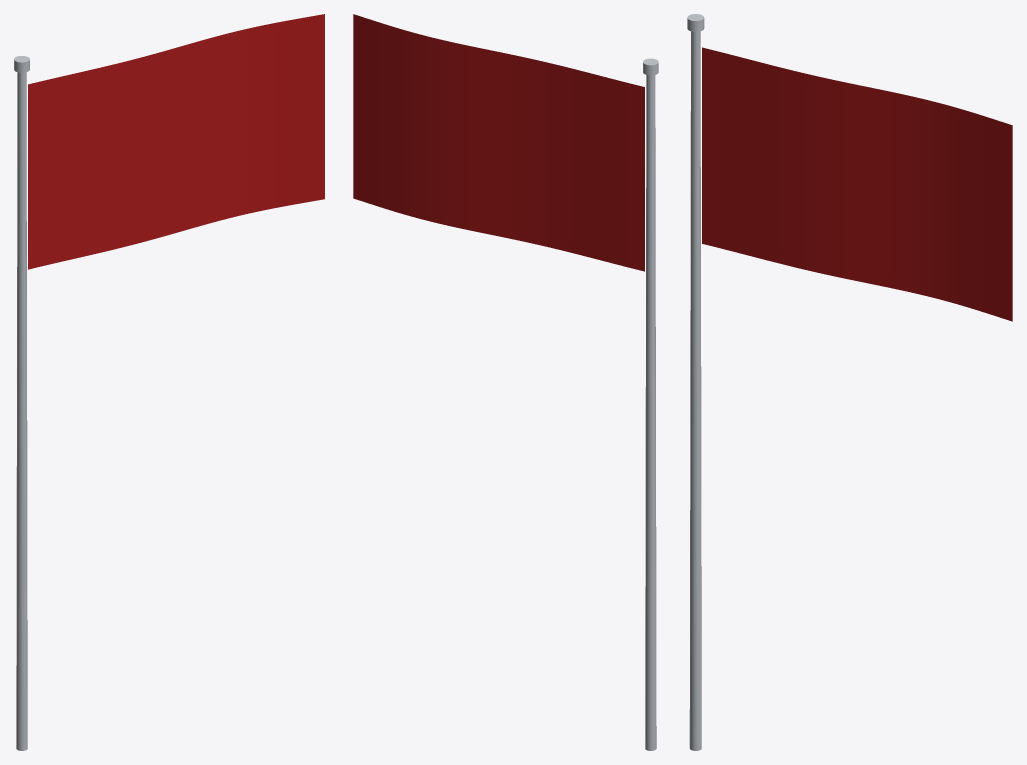
The model's file is flag.glb.
3 views of the same model, side by side, from view 1: azimuth 30°, elevation 25°; view 2: azimuth 150°, elevation 25°; view 3: azimuth 330°, elevation 25° (orthographic). The views are drawn at different scales.
Parts seen in each view (by area): view 1: Flag, Pole; view 2: Flag, Pole; view 3: Flag, Pole.
Part boxes in pixels (x1,y1,x2,y2): Flag: (28, 14, 324, 269); Pole: (14, 56, 29, 750); Flag: (353, 14, 644, 271); Pole: (643, 58, 658, 750); Flag: (702, 47, 1012, 321); Pole: (687, 14, 704, 750).
Bounding box in the file's own units: 1.56 × 3.35 × 0.07.
